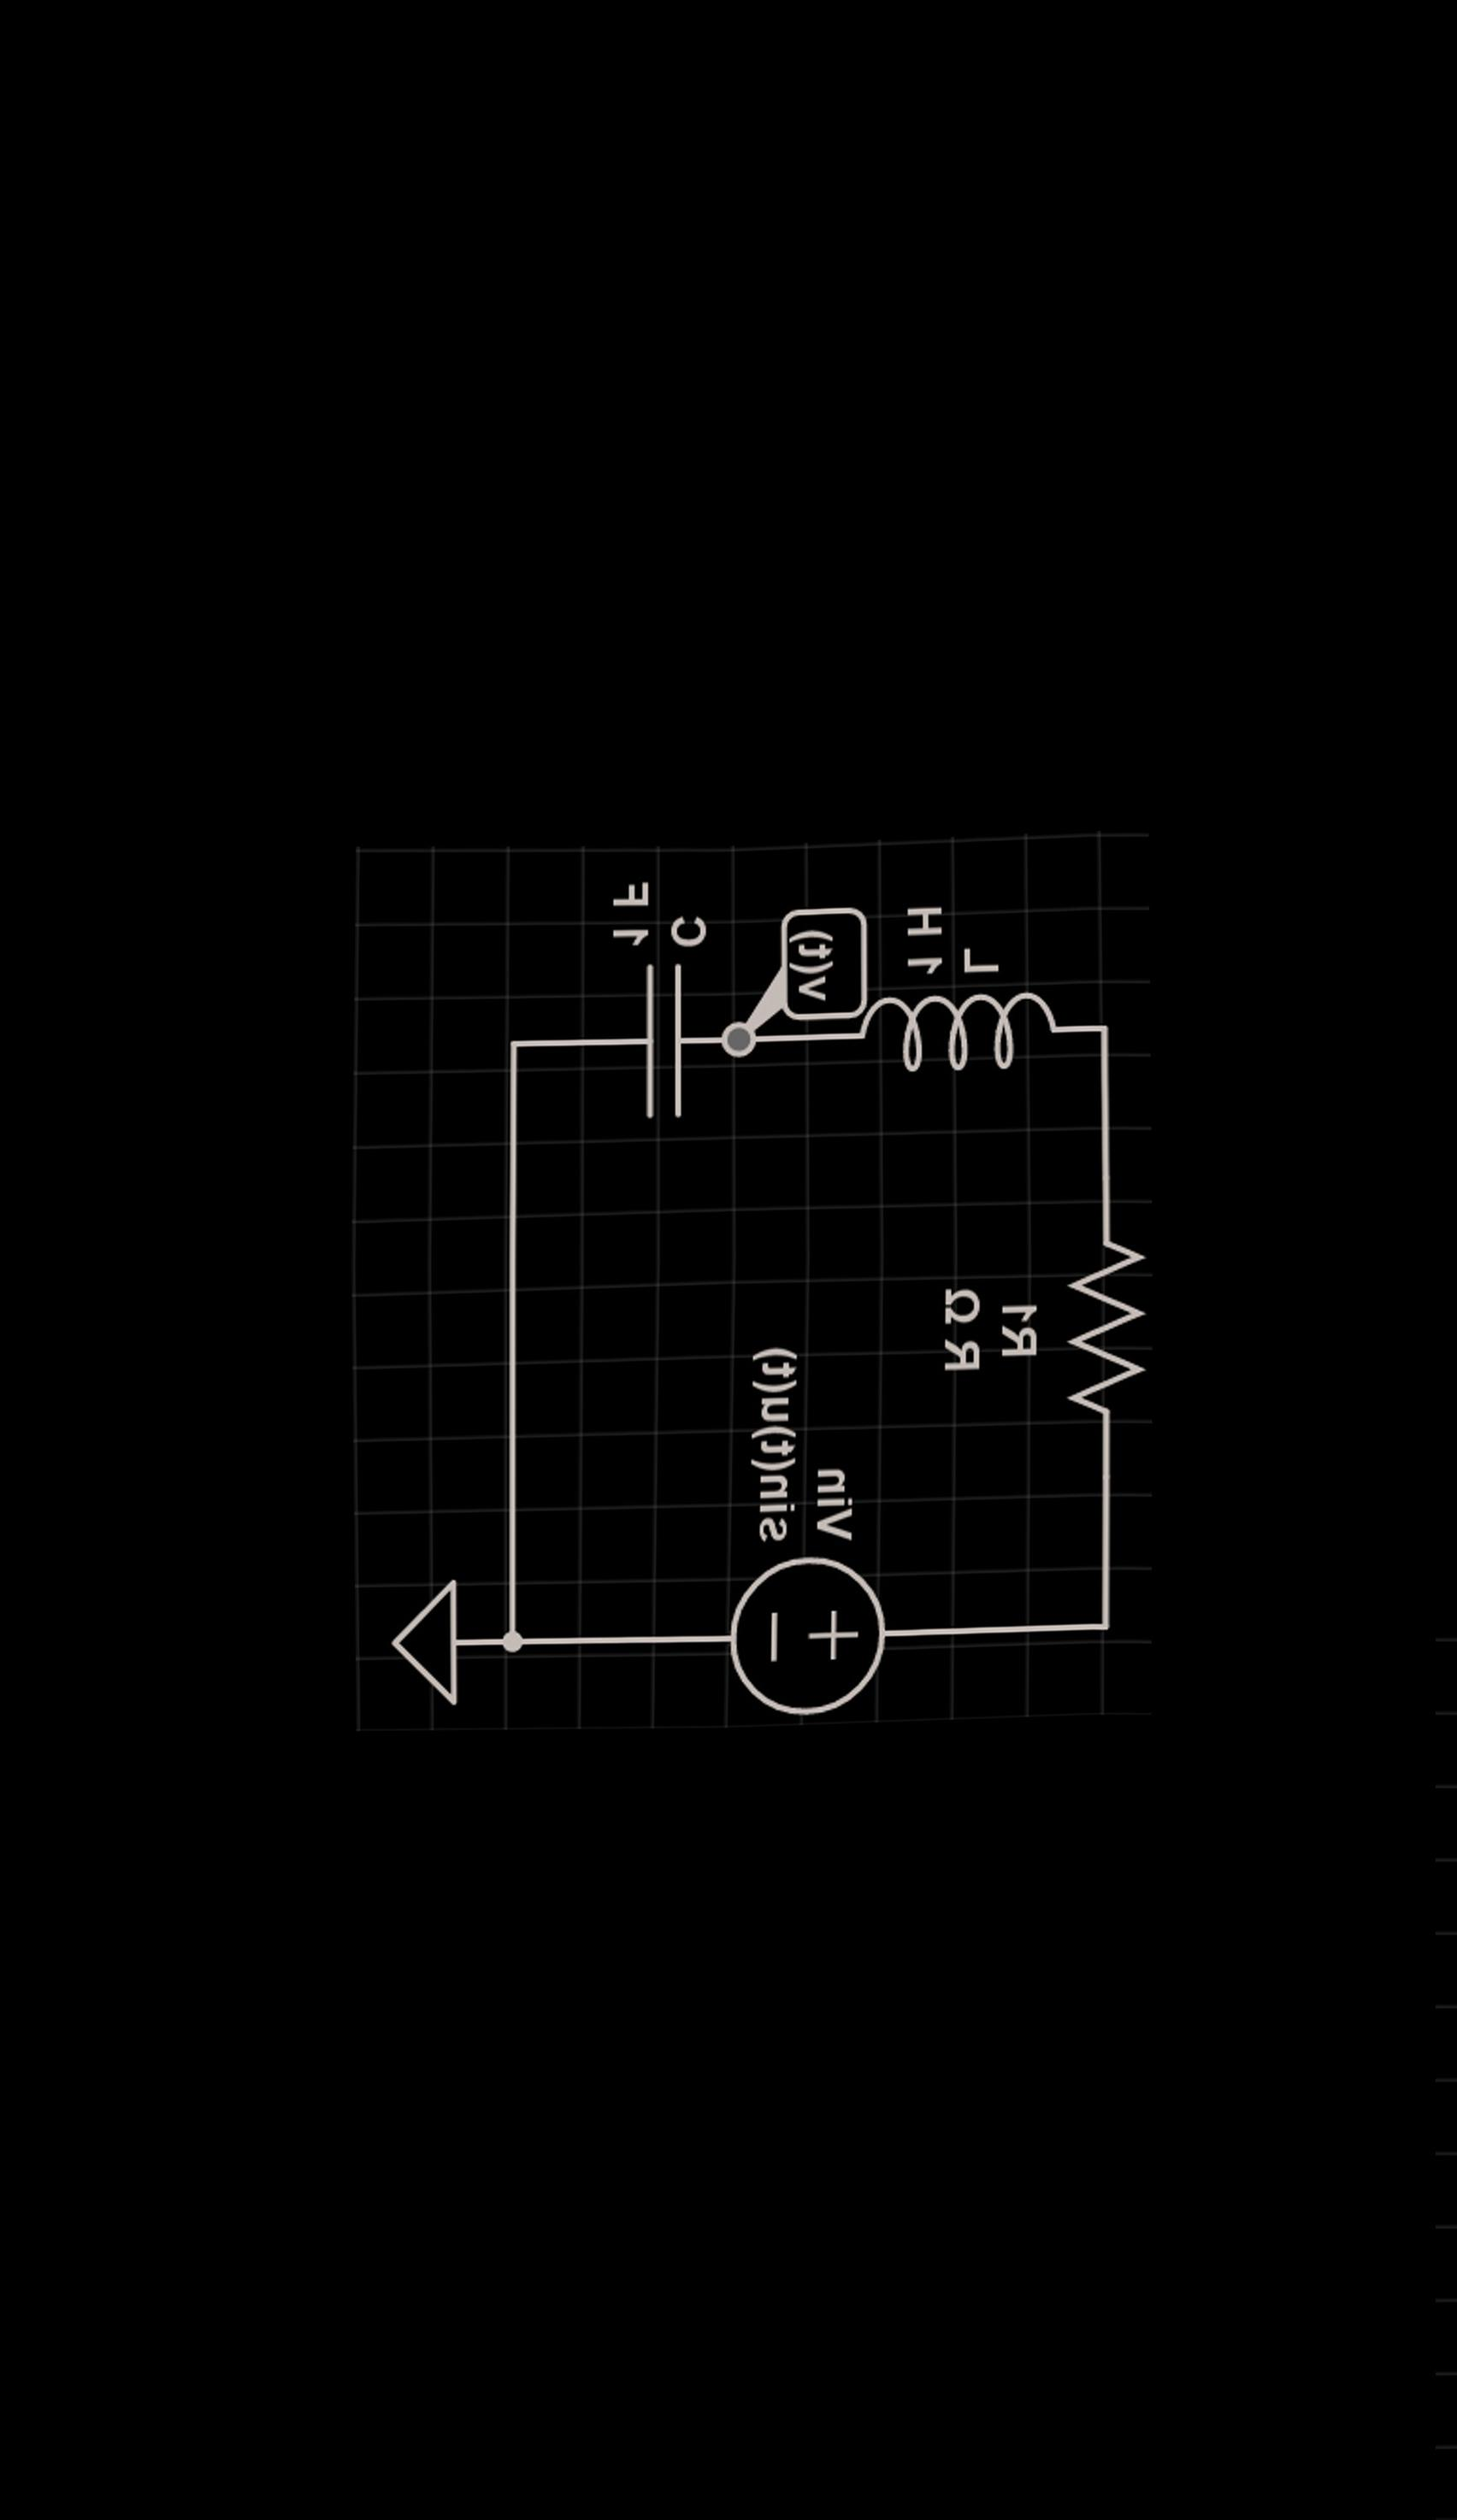Battery: (652, 1536, 931, 1796)
